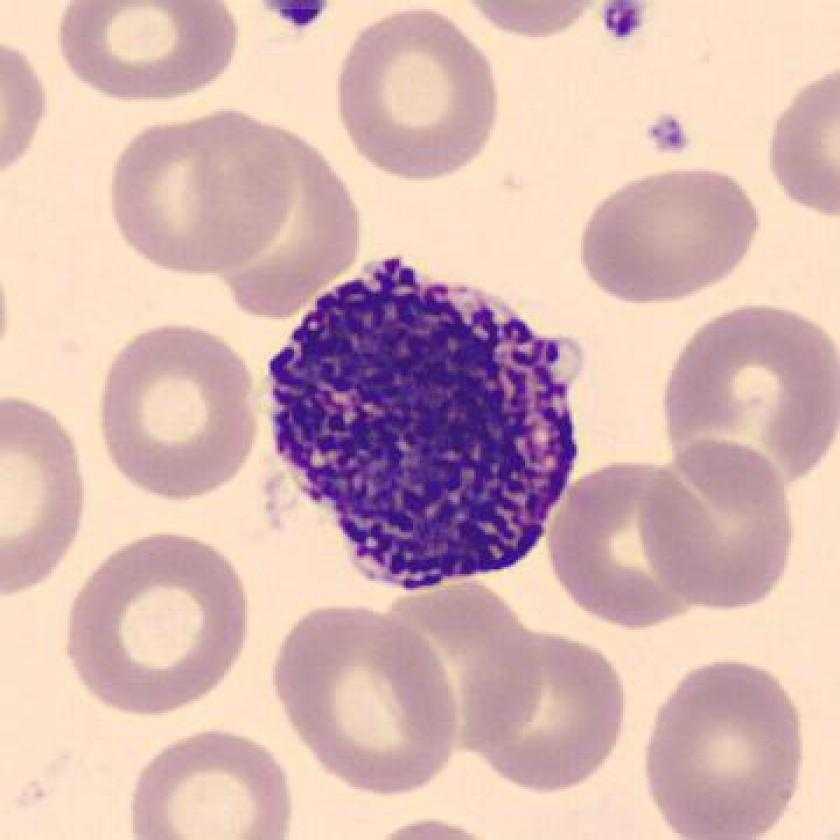basophil: (260, 253, 594, 591)
